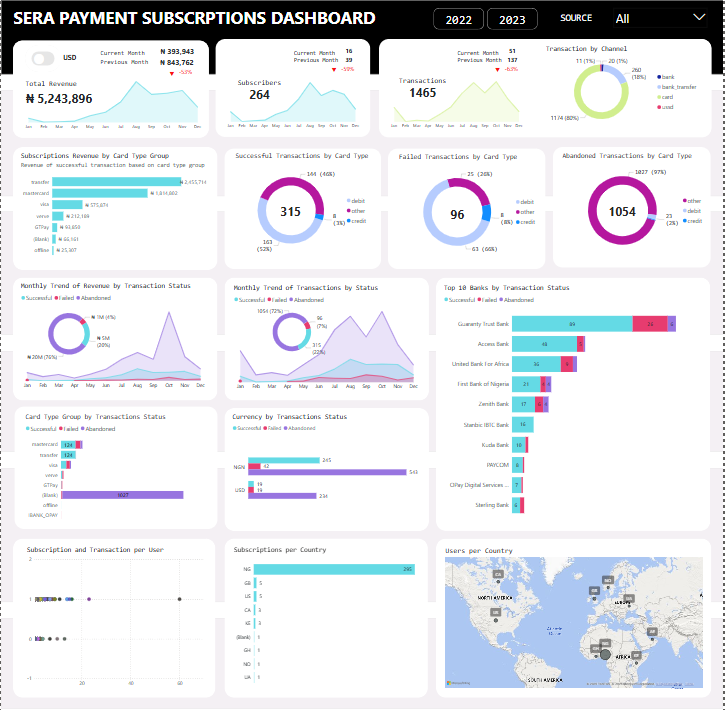

What the dashboard file says about the page in this screenshot:
{"tool":"powerbi","page":{"name":"Duplicate of Page 1","canvas":[2005,2000],"ordinal":1},"visuals":[{"type":"shape","box":[597.5,117.5,430,272],"z":0,"group":"g13"},{"type":"shape","box":[33,120,544,270],"z":0,"group":"g10"},{"type":"shape","box":[33.8,120.5,544,270],"z":0,"group":"g12"},{"type":"textbox","title":"Current Month","box":[1264,142.4,138.3,18.3],"z":0,"group":"g11"},{"type":"textbox","title":"Current Month","box":[272.5,142.7,160,18.5],"z":0,"group":"g7"},{"type":"textbox","title":"Current Month","box":[811.5,143.2,138.3,18.3],"z":0,"group":"g9"},{"type":"textbox","title":"Current Month","box":[274.7,145,160,18.3],"z":0,"group":"g8"},{"type":"shape","box":[32.5,417.5,568,342],"z":0,"group":"g17"},{"type":"group","id":"g1","title":"Group 10","box":[1532.5,417.5,438,335],"z":0,"group":"g21"},{"type":"group","id":"g2","title":"Group 7","box":[1532.5,417.5,438,335],"z":0,"group":"g1"},{"type":"shape","box":[1532.5,417.5,438,335],"z":0,"group":"g2"},{"type":"group","id":"g3","title":"Group 10","box":[1075,418.8,437.5,335],"z":0,"group":"g20"},{"type":"group","id":"g4","title":"Group 7","box":[1075,418.8,437.5,335],"z":0,"group":"g3"},{"type":"shape","box":[1075,418.8,437.5,335],"z":0,"group":"g4"},{"type":"group","id":"g5","title":"Group 10","box":[622.5,421.2,435,335],"z":0,"group":"g19"},{"type":"group","id":"g6","title":"Group 7","box":[622.5,421.2,435,335],"z":0,"group":"g5"},{"type":"shape","box":[622.5,421.2,435,335],"z":0,"group":"g6"},{"type":"shape","box":[32.5,780,568,342],"z":0,"group":"g14"},{"type":"shape","box":[620,780,568,342],"z":0,"group":"g15"},{"type":"shape","box":[1208.8,780,762,704],"z":0,"group":"g18"},{"type":"shape","box":[37.2,1139.1,564,340.5],"z":0,"group":"g16"},{"type":"shape","box":[620,1140,568,342],"z":0,"group":"g22"},{"type":"shape","box":[0,1725,2005,252.5],"z":0},{"type":"areaChart","fields":{"Category":["date table.Month Name"],"Y":["Measures_.Successful_Revenue"]},"box":[52.8,133.5,514,244],"z":1000,"group":"g12"},{"type":"areaChart","fields":{"Category":["date table.Month Name"],"Y":["Measures_.USD_Total_Succ_Revenue"]},"box":[51.3,135,514,244],"z":1000,"group":"g10"},{"type":"areaChart","fields":{"Category":["date table.Month Name"],"Y":["Measures_.Successful_Suscribers"]},"box":[619.5,152.5,390,230],"z":1000,"group":"g13"},{"type":"textbox","title":"Previous Month","box":[1264,165.7,138.3,20],"z":1000,"group":"g11"},{"type":"textbox","title":"Previous Month","box":[811.5,166.5,138.3,20],"z":1000,"group":"g9"},{"type":"textbox","title":"Previous Month","box":[272.5,169.5,160,25.2],"z":1000,"group":"g7"},{"type":"textbox","title":"Previous Month","box":[274.7,171.7,160,25],"z":1000,"group":"g8"},{"type":"donutChart","title":"Successful Transactions by Card Type","fields":{"Category":["sera sales.credit_or_debit"],"Y":["Count(sera sales.transaction_id)"]},"box":[648.7,430.6,382.5,305],"z":1000,"group":"g6"},{"type":"clusteredBarChart","title":"Subscriptions Revenue by Card Type Group","fields":{"Category":["sera sales.card_type_group"],"Y":["Measures_.Total_Revenue"]},"box":[49.8,430.8,526,306],"z":1000,"group":"g17"},{"type":"donutChart","title":"Abandoned Transactions by Card Type","fields":{"Category":["sera sales.credit_or_debit"],"Y":["Count(sera sales.transaction_id)"]},"box":[1553.7,431.3,407.5,305],"z":1000,"group":"g2"},{"type":"donutChart","title":"Failed Transactions by Card Type","fields":{"Category":["sera sales.credit_or_debit"],"Y":["Count(sera sales.transaction_id)"]},"box":[1100.5,432.8,398,305],"z":1000,"group":"g4"},{"type":"card","title":"Transactions","fields":{"Values":["Measures_.Successful_transaction_Count"]},"box":[732.5,553.7,150,80],"z":1000,"group":"g5"},{"type":"card","title":"Transactions","fields":{"Values":["Measures_.Abandoned_transaction_Count"]},"box":[1650,555,150,80],"z":1000,"group":"g1"},{"type":"card","title":"Transactions","fields":{"Values":["Measures_.Failed_transaction_Count"]},"box":[1192.5,558.8,150,80],"z":1000,"group":"g3"},{"type":"areaChart","title":"Monthly Trend of Revenue by Transaction Status","fields":{"Category":["date table.Month Name"],"Y":["Measures_.Successful_Revenue","Measures_.Failed_Revenue","Measures_.Abandoned_Revenue"]},"box":[49.8,793.3,526,306],"z":1000,"group":"g14"},{"type":"areaChart","title":"Monthly Trend of Transactions by Status","fields":{"Category":["date table.Month Name"],"Y":["Measures_.Successful_transaction_Count","Measures_.Failed_transaction_Count","Measures_.Abandoned_transaction_Count"]},"box":[640,796,526,306],"z":1000,"group":"g15"},{"type":"barChart","title":"Top 10 Banks by Transaction Status","fields":{"Category":["sera sales.card_bank"],"Y":["Measures_.Successful_transaction_Count","Measures_.Failed_transaction_Count","Measures_.Abandoned_transaction_Count"]},"box":[1227.3,798,726,666],"z":1000,"group":"g18"},{"type":"clusteredBarChart","title":"Currency by Transactions Status","fields":{"Category":["sera sales.currency"],"Y":["Measures_.Successful_Suscribers","Measures_.Failed_Suscribers","Measures_.Abandoned_Suscribers"]},"box":[637.3,1153.3,526,306],"z":1000,"group":"g22"},{"type":"barChart","title":"Card Type Group by Transactions Status ","fields":{"Category":["sera sales.card_type_group"],"Y":["Measures_.Successful_transaction_Count","Measures_.Failed_transaction_Count","Measures_.Abandoned_transaction_Count"]},"box":[61,1154.1,502.5,312.5],"z":1000,"group":"g16"},{"type":"shape","box":[0,1307.5,2437.5,372.5],"z":1000},{"type":"card","fields":{"Values":["Measures_.Current_Month_Revenue"]},"box":[431.5,135.7,120,31.7],"z":2000,"group":"g7"},{"type":"card","fields":{"Values":["Measures_.Current_Month_Transactions"]},"box":[1402.3,135.7,40,30],"z":2000,"group":"g11"},{"type":"card","fields":{"Values":["Measures_.Current_Month_Suscribers"]},"box":[949.8,136.5,40,30],"z":2000,"group":"g9"},{"type":"card","fields":{"Values":["Measures_.USD_Current_Month_Revenue"]},"box":[433.7,138.1,120,31.4],"z":2000,"group":"g8"},{"type":"card","title":"Subscribers","fields":{"Values":["Measures_.Successful_Suscribers"]},"box":[648.5,224.5,144,70],"z":2000,"group":"g13"},{"type":"card","title":"Total Revenue","fields":{"Values":["Measures_.Total_Succ_Revenue"]},"box":[64.8,227.5,196,84],"z":2000,"group":"g12"},{"type":"card","title":"Total Revenue","fields":{"Values":["Measures_.USD_Total_Succ_Revenue"]},"box":[67,230,195,83.3],"z":2000,"group":"g10"},{"type":"donutChart","title":"Monthly Revenue of Transaction Status","fields":{"Y":["Measures_.Successful_Revenue","Measures_.Abandoned_Revenue","Measures_.Failed_Revenue"]},"box":[48.7,855,277.5,162.5],"z":2000,"group":"g14"},{"type":"donutChart","title":"Monthly Revenue of Transaction Status","fields":{"Y":["Measures_.Failed_transaction_Count","Measures_.Successful_transaction_Count","Measures_.Abandoned_transaction_Count"]},"box":[685,855,240,152.5],"z":2000,"group":"g15"},{"type":"shape","box":[1210,1505,765,442.5],"z":2000},{"type":"group","id":"g7","title":"Group 1","box":[272.5,135.7,279,85.9],"z":3000,"group":"g12"},{"type":"group","id":"g8","title":"Group 1","box":[274.7,138.1,279,85.2],"z":3000,"group":"g10"},{"type":"card","fields":{"Values":["Measures_.Previous_Month_Transactions"]},"box":[1402.3,162.4,40,26.7],"z":3000,"group":"g11"},{"type":"card","fields":{"Values":["Measures_.Previous_Month_Suscribers"]},"box":[949.8,163.2,40,26.7],"z":3000,"group":"g9"},{"type":"card","fields":{"Values":["Measures_.Previous_Month_Revenue"]},"box":[432.5,164.5,118.3,30.2],"z":3000,"group":"g7"},{"type":"card","fields":{"Values":["Measures_.USD_Previous_Month_Revenue"]},"box":[434.7,166.7,118.3,30],"z":3000,"group":"g8"},{"type":"card","fields":{"Values":["Measures_.MOM%_indicator"]},"box":[911.5,187.5,32,24],"z":3000,"group":"g13"},{"type":"shape","box":[0,257.5,2437.5,295],"z":3000},{"type":"group","id":"g9","title":"Group 2","box":[811.5,136.5,180,78],"z":4000,"group":"g13"},{"type":"card","fields":{"Values":["Measures_.Transaction_MOM%"]},"box":[1392.3,187.4,50,26.7],"z":4000,"group":"g11"},{"type":"card","fields":{"Values":["Measures_.Suscribers_MOM%"]},"box":[939.8,188.2,50,26.7],"z":4000,"group":"g9"},{"type":"card","fields":{"Values":["Measures_.MOM%_indicator"]},"box":[460.8,196.4,31.7,25.2],"z":4000,"group":"g7"},{"type":"card","fields":{"Values":["Measures_.MOM%_indicator"]},"box":[463,198.3,31.7,25],"z":4000,"group":"g8"},{"type":"shape","box":[35,1505,562.5,442.5],"z":4000},{"type":"shape","box":[0,6.7,2436.7,206.7],"z":5000},{"type":"card","fields":{"Values":["Measures_.Revenue_MOM%"]},"box":[485.8,194.7,56.7,26.9],"z":5000,"group":"g7"},{"type":"card","fields":{"Values":["Measures_.Revenue_MOM%"]},"box":[488,196.7,56.7,26.7],"z":5000,"group":"g8"},{"type":"group","id":"g10","title":"Group 3","box":[33,120,544,270],"z":6000},{"type":"shape","box":[1502.5,117.5,470,272.5],"z":7000},{"type":"shape","box":[1050,116.7,923.3,273.3],"z":8000},{"type":"donutChart","title":"Transaction  by Channel","fields":{"Y":["Measures_.Transaction_Count"],"Series":["sera sales.channel"]},"box":[1507.5,135,437.5,237.5],"z":9000},{"type":"shape","box":[0,985,2437.5,280],"z":10000},{"type":"shape","box":[0,597.5,2437.5,342.5],"z":11000},{"type":"areaChart","fields":{"Category":["date table.Month Name"],"Y":["Measures_.Transaction_Count"]},"box":[1072,151.7,390,230],"z":12000},{"type":"card","title":"Transactions","fields":{"Values":["Measures_.Transaction_Count"]},"box":[1095,222.5,150,70],"z":13000},{"type":"card","fields":{"Values":["Measures_.MOM%_indicator"]},"box":[1364,186.7,32,24],"z":14000},{"type":"advancedSlicerVisual","fields":{"Values":["date table.Year"]},"box":[1196.7,26.7,300,70],"z":15000},{"type":"group","id":"g11","title":"Group 2","box":[1264,135.7,180,78],"z":16000},{"type":"textbox","title":"SERA PAYMENT SUBSCRPTIONS DASHBOARD","box":[30.4,26.1,1069.6,65.2],"z":17000},{"type":"group","id":"g12","title":"Group 3","box":[33.8,120.5,544,270],"z":18000},{"type":"group","id":"g13","title":"Group 4","box":[597.5,117.5,430,272],"z":19000},{"type":"group","id":"g14","title":"Group 5","box":[32.5,780,568,342],"z":20000},{"type":"group","id":"g15","title":"Group 6","box":[620,780,568,342],"z":21000},{"type":"group","id":"g16","title":"Group 8","box":[37.2,1139.1,565,340],"z":22000},{"type":"group","id":"g17","title":"Group 5","box":[32.5,417.5,570,342.5],"z":23000},{"type":"group","id":"g18","title":"Group 5","box":[1208.8,780,762,704],"z":24000},{"type":"bookmarkNavigator","box":[66.7,131.7,100,75],"z":26000},{"type":"textbox","box":[158.3,151,65,40],"z":27000},{"type":"group","id":"g19","title":"Group 9","box":[622.5,421.2,435,335],"z":29000},{"type":"group","id":"g20","title":"Group 9","box":[1075,418.8,437.5,335],"z":30000},{"type":"group","id":"g21","title":"Group 9","box":[1532.5,417.5,438,335],"z":31000},{"type":"group","id":"g22","title":"Group 5","box":[620,1140,568,342],"z":32000},{"type":"slicer","fields":{"Values":["sera sales.source"]},"box":[1690,20,280,76.7],"z":33000},{"type":"textbox","title":"SOURCE","box":[1513.3,43.3,170,40],"z":34000},{"type":"map","title":"Users per Country","fields":{"Category":["sera sales.country_code"],"Size":["Measures_.User_Count"]},"box":[1227.5,1525,725,400],"z":35000},{"type":"scatterChart","title":"Subscription and Transaction per User","fields":{"X":["UserSummary.Transactions"],"Y":["Sum(UserSummary.Subscribed)"],"Series":["UserSummary.user_id"]},"box":[65,1525,510,400],"z":36000},{"type":"shape","box":[622.5,1502.5,565,442.5],"z":37000},{"type":"clusteredBarChart","title":"Subscriptions per Country","fields":{"Category":["sera sales.country_code"],"Y":["Measures_.Successful_transaction_Count"]},"box":[642.5,1525,520,400],"z":38000}]}

Visuals, with their boxes in screenshot pixels (x1, y1, x2, y2), scaled from the page's 2005x2000 canvas onto the 725x710 screenshot:
shape: [216,42,372,138]
shape: [12,43,209,138]
shape: [12,43,209,139]
"Current Month" textbox: [457,51,507,57]
"Current Month" textbox: [99,51,156,57]
"Current Month" textbox: [293,51,343,57]
"Current Month" textbox: [99,51,157,58]
shape: [12,148,217,270]
"Group 10" group: [554,148,713,267]
"Group 7" group: [554,148,713,267]
shape: [554,148,713,267]
"Group 10" group: [389,149,547,268]
"Group 7" group: [389,149,547,268]
shape: [389,149,547,268]
"Group 10" group: [225,150,382,268]
"Group 7" group: [225,150,382,268]
shape: [225,150,382,268]
shape: [12,277,217,398]
shape: [224,277,430,398]
shape: [437,277,713,527]
shape: [13,404,217,525]
shape: [224,405,430,526]
shape: [0,612,724,702]
areaChart - date table.Month Name x Measures_.Successful_Revenue: [19,47,205,134]
areaChart - date table.Month Name x Measures_.USD_Total_Succ_Revenue: [19,48,204,135]
areaChart - date table.Month Name x Measures_.Successful_Suscribers: [224,54,365,136]
"Previous Month" textbox: [457,59,507,66]
"Previous Month" textbox: [293,59,343,66]
"Previous Month" textbox: [99,60,156,69]
"Previous Month" textbox: [99,61,157,70]
"Successful Transactions by Card Type" donutChart: [235,153,373,261]
"Subscriptions Revenue by Card Type Group" clusteredBarChart: [18,153,208,262]
"Abandoned Transactions by Card Type" donutChart: [562,153,709,261]
"Failed Transactions by Card Type" donutChart: [398,154,542,262]
"Transactions" card: [265,197,319,225]
"Transactions" card: [597,197,651,225]
"Transactions" card: [431,198,485,227]
"Monthly Trend of Revenue by Transaction Status" areaChart: [18,282,208,390]
"Monthly Trend of Transactions by Status" areaChart: [231,283,422,391]
"Top 10 Banks by Transaction Status" barChart: [444,283,706,520]
"Currency by Transactions Status" clusteredBarChart: [230,409,421,518]
"Card Type Group by Transactions Status " barChart: [22,410,204,521]
shape: [0,464,724,596]
card - Measures_.Current_Month_Revenue: [156,48,199,59]
card - Measures_.Current_Month_Transactions: [507,48,522,59]
card - Measures_.Current_Month_Suscribers: [343,48,358,59]
card - Measures_.USD_Current_Month_Revenue: [157,49,200,60]
"Subscribers" card: [234,80,287,105]
"Total Revenue" card: [23,81,94,111]
"Total Revenue" card: [24,82,95,111]
"Monthly Revenue of Transaction Status" donutChart: [18,304,118,361]
"Monthly Revenue of Transaction Status" donutChart: [248,304,334,358]
shape: [438,534,714,691]
"Group 1" group: [99,48,199,79]
"Group 1" group: [99,49,200,79]
card - Measures_.Previous_Month_Transactions: [507,58,522,67]
card - Measures_.Previous_Month_Suscribers: [343,58,358,67]
card - Measures_.Previous_Month_Revenue: [156,58,199,69]
card - Measures_.USD_Previous_Month_Revenue: [157,59,200,70]
card - Measures_.MOM%_indicator: [330,67,341,75]
shape: [0,91,724,196]
"Group 2" group: [293,48,359,76]
card - Measures_.Transaction_MOM%: [503,67,522,76]
card - Measures_.Suscribers_MOM%: [340,67,358,76]
card - Measures_.MOM%_indicator: [167,70,178,79]
card - Measures_.MOM%_indicator: [167,70,179,79]
shape: [13,534,216,691]
shape: [0,2,724,76]
card - Measures_.Revenue_MOM%: [176,69,196,79]
card - Measures_.Revenue_MOM%: [176,70,197,79]
"Group 3" group: [12,43,209,138]
shape: [543,42,713,138]
shape: [380,41,714,138]
"Transaction  by Channel" donutChart: [545,48,703,132]
shape: [0,350,724,449]
shape: [0,212,724,334]
areaChart - date table.Month Name x Measures_.Transaction_Count: [388,54,529,136]
"Transactions" card: [396,79,450,104]
card - Measures_.MOM%_indicator: [493,66,505,75]
advancedSlicerVisual - date table.Year: [433,9,541,34]
"Group 2" group: [457,48,522,76]
"SERA PAYMENT SUBSCRPTIONS DASHBOARD" textbox: [11,9,398,32]
"Group 3" group: [12,43,209,139]
"Group 4" group: [216,42,372,138]
"Group 5" group: [12,277,217,398]
"Group 6" group: [224,277,430,398]
"Group 8" group: [13,404,218,525]
"Group 5" group: [12,148,218,270]
"Group 5" group: [437,277,713,527]
bookmarkNavigator: [24,47,60,73]
textbox: [57,54,81,68]
"Group 9" group: [225,150,382,268]
"Group 9" group: [389,149,547,268]
"Group 9" group: [554,148,713,267]
"Group 5" group: [224,405,430,526]
slicer - sera sales.source: [611,7,712,34]
"SOURCE" textbox: [547,15,609,30]
"Users per Country" map: [444,541,706,683]
"Subscription and Transaction per User" scatterChart: [24,541,208,683]
shape: [225,533,429,690]
"Subscriptions per Country" clusteredBarChart: [232,541,420,683]
